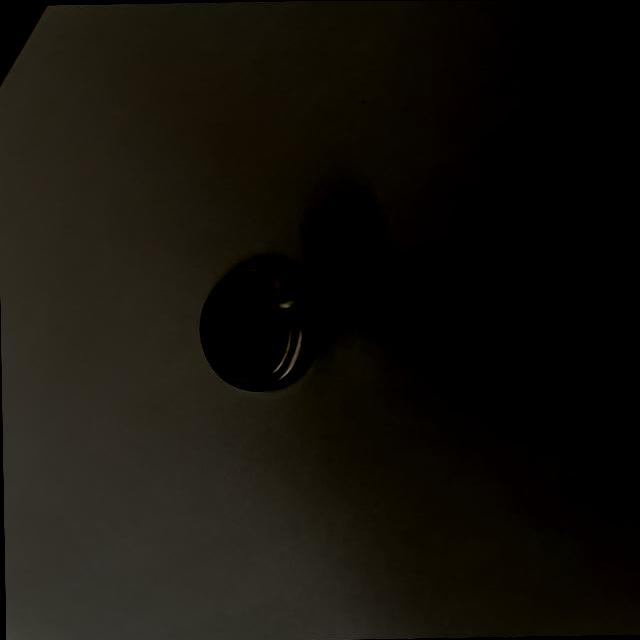COIN: (197, 263, 321, 393), (245, 266, 362, 322)
